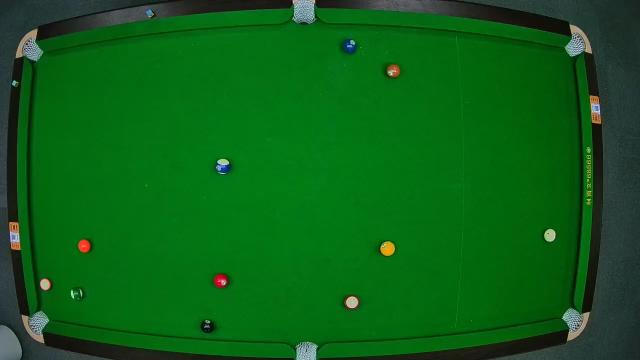bag1: (22, 40, 42, 62)
bag2: (294, 0, 316, 24)
bag3: (566, 33, 586, 58)
bag4: (28, 312, 48, 334)
bag5: (294, 342, 318, 360)
bag6: (562, 310, 584, 334)
ball0: (542, 228, 558, 244)
ball1: (378, 240, 396, 258)
ball10: (216, 158, 232, 175)
ball11: (344, 296, 361, 310)
ball12: (38, 278, 54, 290)
ball14: (71, 286, 85, 302)
ball2: (342, 38, 358, 54)
ball3: (212, 274, 230, 290)
ball5: (78, 238, 92, 254)
ball7: (386, 63, 402, 79)
ball8: (201, 318, 215, 334)
